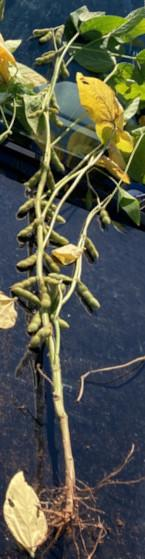soja: (13, 288, 44, 312), (41, 223, 73, 246), (12, 270, 39, 297), (77, 283, 100, 314), (43, 252, 70, 276), (82, 234, 106, 260), (43, 166, 66, 193), (15, 194, 42, 215), (49, 149, 71, 174), (25, 165, 45, 192), (18, 250, 41, 273), (47, 205, 68, 227), (52, 267, 79, 284), (39, 195, 61, 215), (24, 313, 44, 334), (19, 219, 42, 237), (47, 89, 66, 110), (33, 53, 57, 69), (36, 289, 52, 311), (57, 313, 73, 333), (98, 205, 113, 226), (50, 111, 68, 128), (59, 60, 75, 78), (42, 276, 62, 289), (33, 25, 58, 35), (35, 327, 46, 349), (28, 107, 42, 122), (40, 34, 57, 46)
